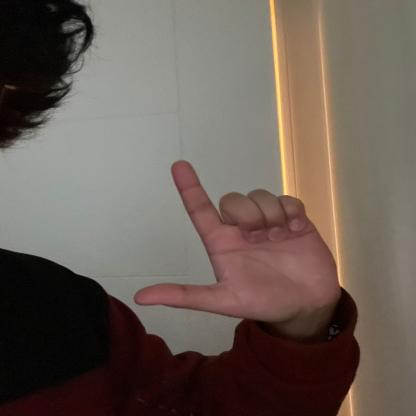L: (126, 157, 346, 329)
